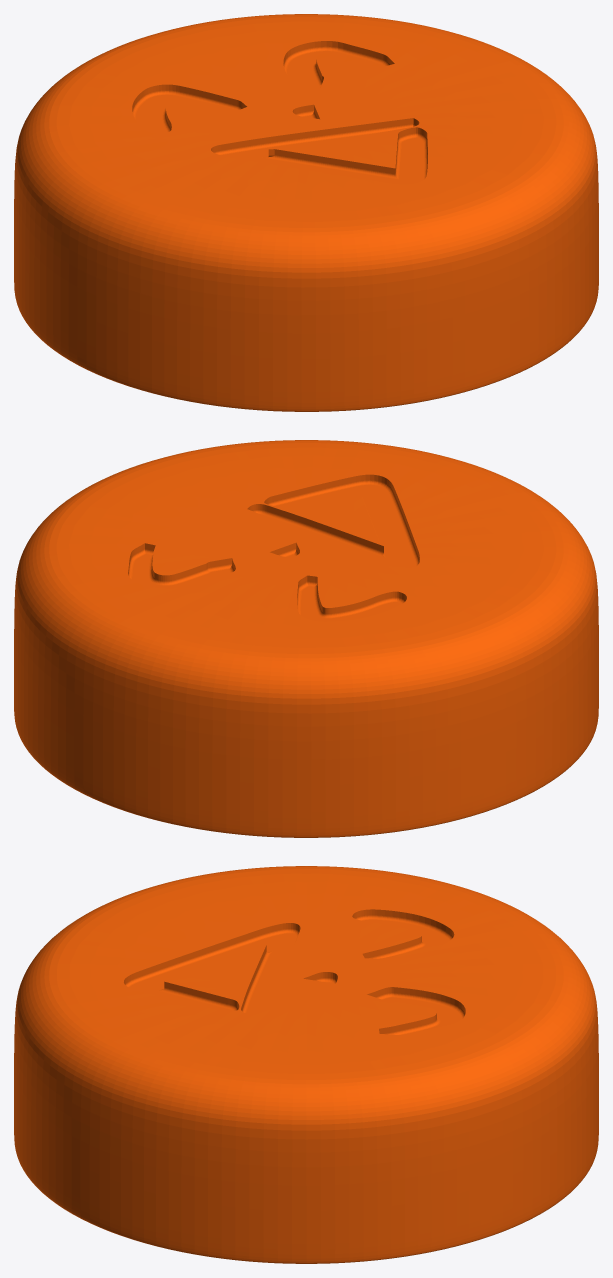
The model's file is circle_BTN_1.glb.
The picture shows the model from 3 angles, top to bottom: view 1: azimuth 30°, elevation 25°; view 2: azimuth 150°, elevation 25°; view 3: azimuth 270°, elevation 25°; orthographic projection.
Parts seen in each view (by area): view 1: Sphere.014; view 2: Sphere.014; view 3: Sphere.014.
Boxes of the visible parts, x1,y1,x2,y2 form: Sphere.014: [14, 14, 598, 411]; Sphere.014: [14, 440, 598, 837]; Sphere.014: [14, 866, 598, 1263].
Size of the model in its own units: 0.8262 by 0.2638 by 0.8262.
